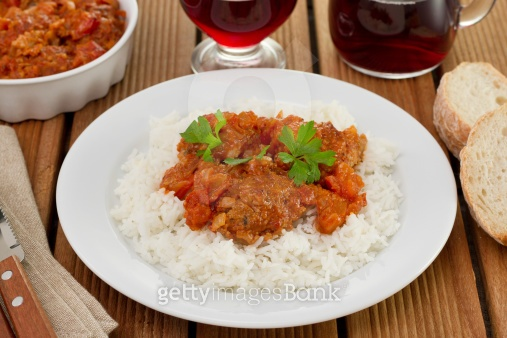plain rice: (171, 246, 290, 296)
